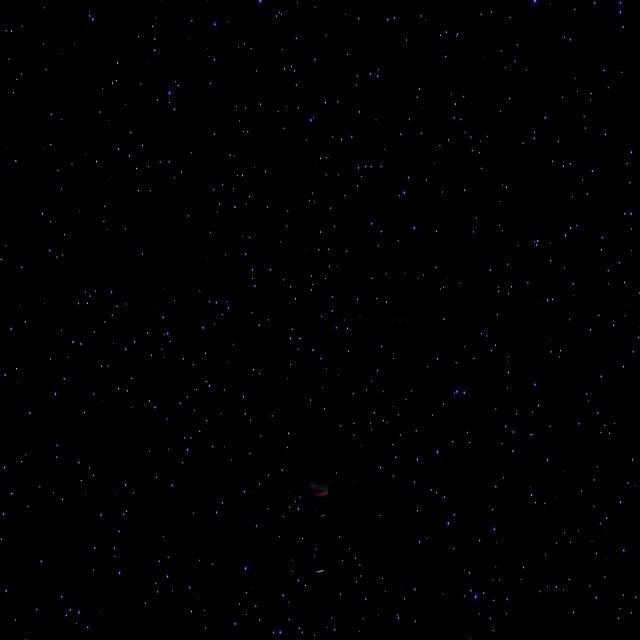large_debris: (304, 468, 334, 585)
